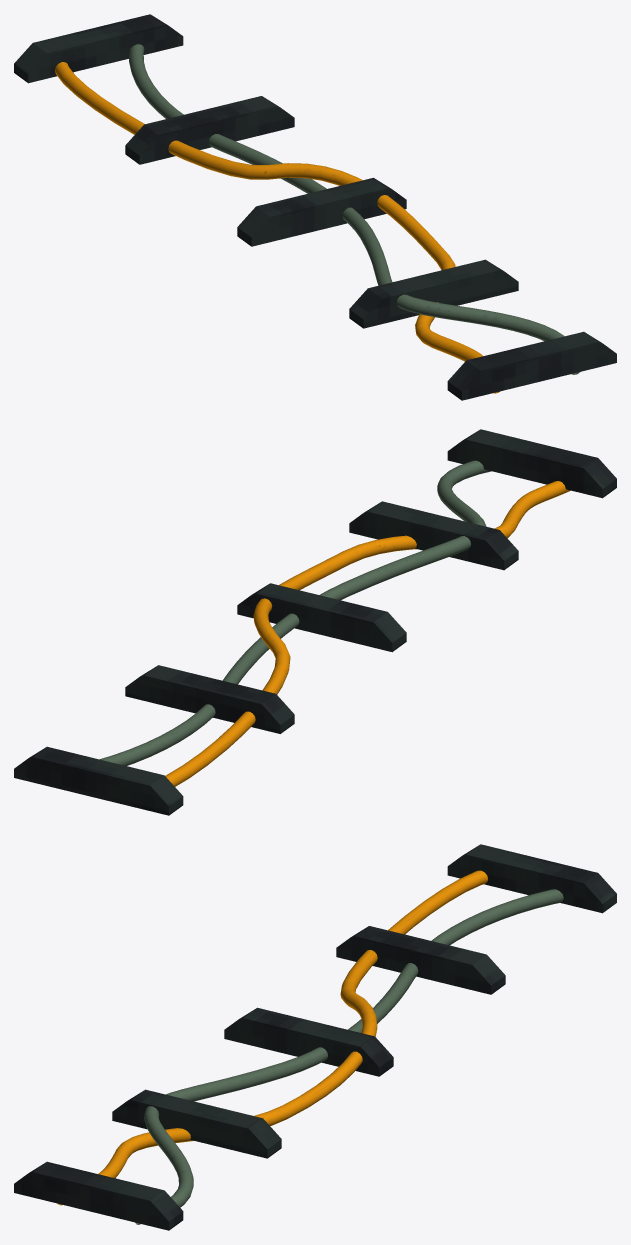
Rendered from exposedWires.fbx.
The picture shows the model from 3 angles, top to bottom: view 1: azimuth 30°, elevation 25°; view 2: azimuth 150°, elevation 25°; view 3: azimuth 330°, elevation 25°; orthographic projection.
Visible parts, largest first — view 1: Exposed Wires; view 2: Exposed Wires; view 3: Exposed Wires.
Boxes of the visible parts, x1=… form: Exposed Wires: x1=14, y1=14, x2=616, y2=400; Exposed Wires: x1=14, y1=429, x2=616, y2=815; Exposed Wires: x1=14, y1=844, x2=616, y2=1230.
Size of the model in its own units: 2 by 0.4 by 0.0825.
